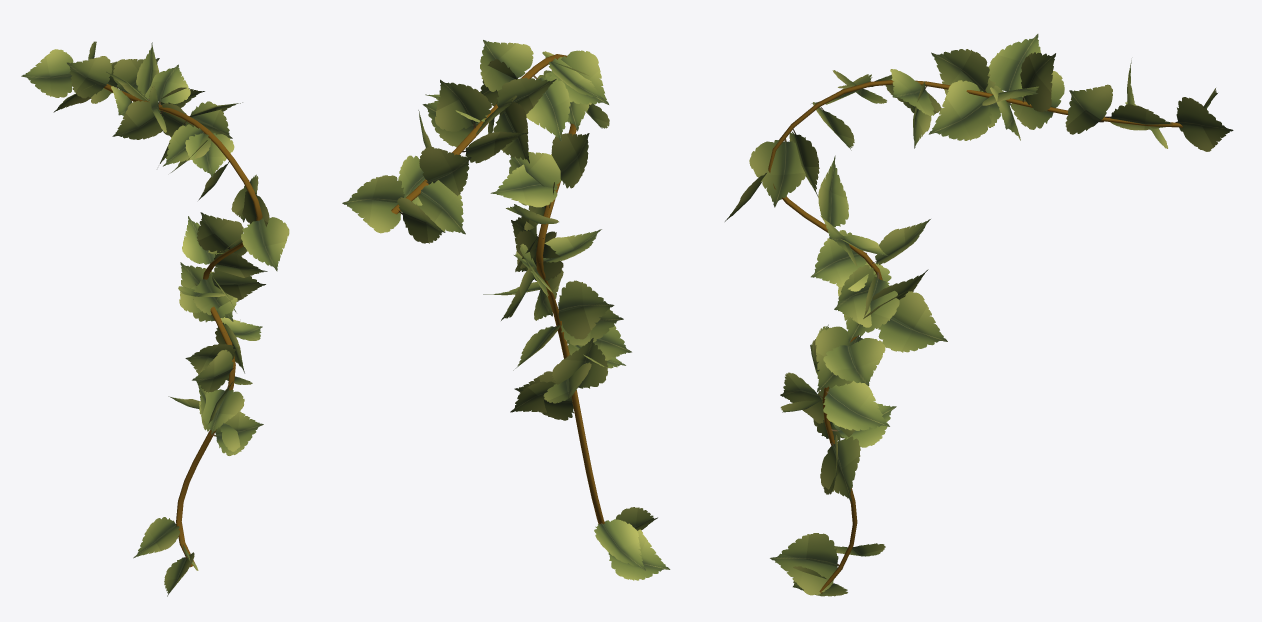
The model's file is 3D_Vines.fbx.
3 views of the same model, side by side, from view 1: azimuth 30°, elevation 25°; view 2: azimuth 150°, elevation 25°; view 3: azimuth 270°, elevation 25° (orthographic). The views are drawn at different scales.
Visible parts, largest first — view 1: BezierCurve.002, Plane.027, Plane.050, Plane.046, Plane.026, Plane.037, Plane.008, Plane.033, Plane.042, Plane.002, Plane.032, Plane.011 (+17 smaller); view 2: BezierCurve.002, Plane.049, Plane.012, Plane.041, Plane.035, Plane.046, Plane.047, Plane.034, Plane.002, Plane.026, Plane.005, Plane.025 (+21 smaller); view 3: BezierCurve.002, Plane.003, Plane.018, Plane.039, Plane.028, Plane.010, Plane.013, Plane.049, Plane.023, Plane.006, Plane.038, Plane.048 (+13 smaller).
Boxes of the visible parts, x1,y1,x2,y2 form: BezierCurve.002: (104,84,262,567); Plane.027: (241,217,289,271); Plane.050: (21,49,73,97); Plane.046: (67,56,112,98); Plane.026: (197,212,243,251); Plane.037: (112,100,165,139); Plane.008: (199,387,244,434); Plane.033: (185,133,234,177); Plane.042: (142,64,190,105); Plane.002: (133,517,179,558); Plane.032: (163,124,211,166); Plane.011: (192,349,234,392); BezierCurve.002: (391,54,604,524); Plane.049: (342,175,404,233); Plane.012: (554,280,614,339); Plane.041: (435,79,491,131); Plane.035: (480,40,533,91); Plane.046: (419,146,471,195); Plane.047: (416,180,465,234); Plane.034: (526,75,570,141); Plane.002: (594,519,645,570); Plane.026: (551,133,589,188); Plane.005: (551,338,607,388); Plane.025: (490,164,557,207); BezierCurve.002: (768,80,1182,593); Plane.003: (770,533,839,595); Plane.018: (878,291,947,352); Plane.039: (928,80,991,140); Plane.028: (749,136,805,207); Plane.010: (823,380,889,430); Plane.013: (823,338,885,385); Plane.049: (1175,97,1233,151); Plane.023: (811,230,868,291); Plane.006: (820,436,860,501); Plane.038: (931,49,989,94); Plane.048: (1065,84,1112,134).
Size of the model in its own units: 109 by 347 by 265.
